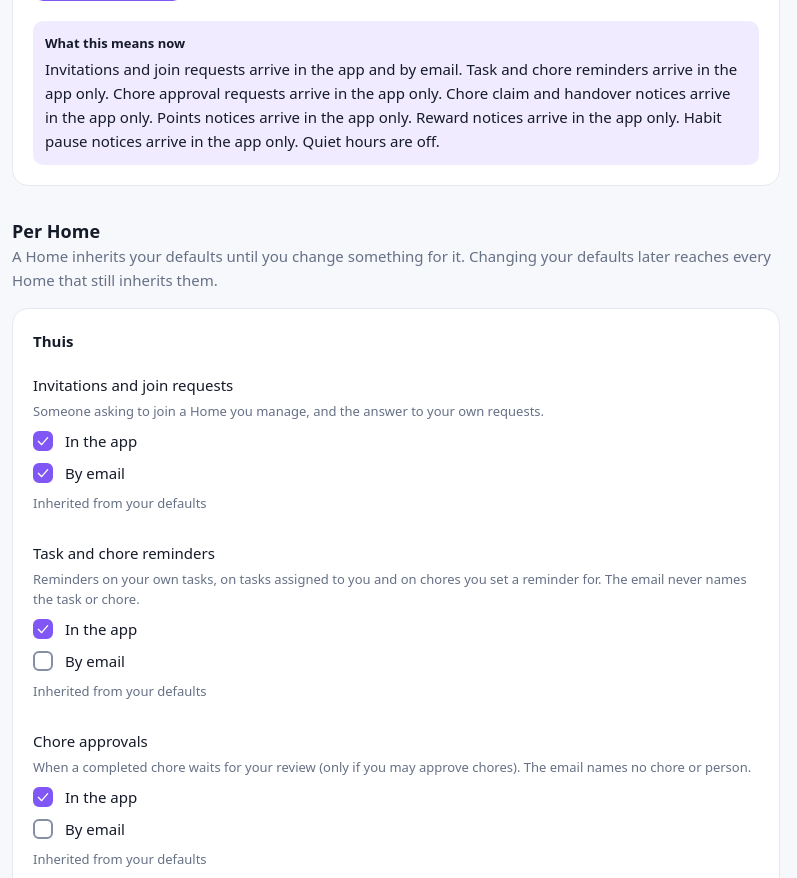
Test: NotificationSettings › reports a failed save and a Home the person has left
(page scrolled)
Step 1. Click the 1st checkbox labelled "In the app" → (43, 441), box x1=33 y1=431 x2=53 y2=451
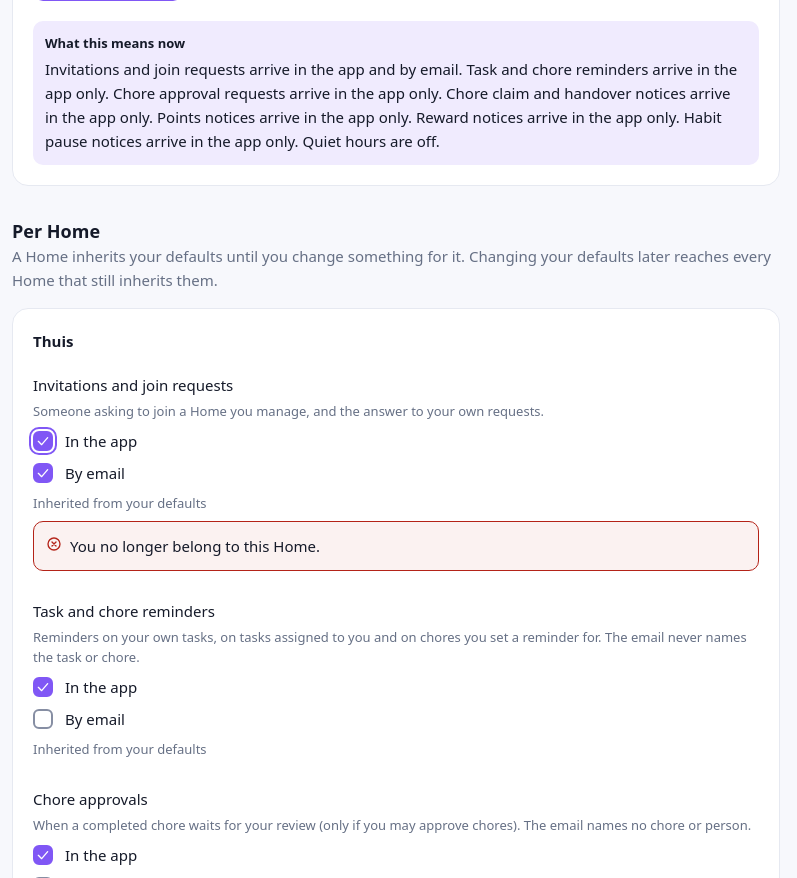
Expected: the message reads "You no longer belong to this Home.", x1=70 y1=536 x2=320 y2=556
